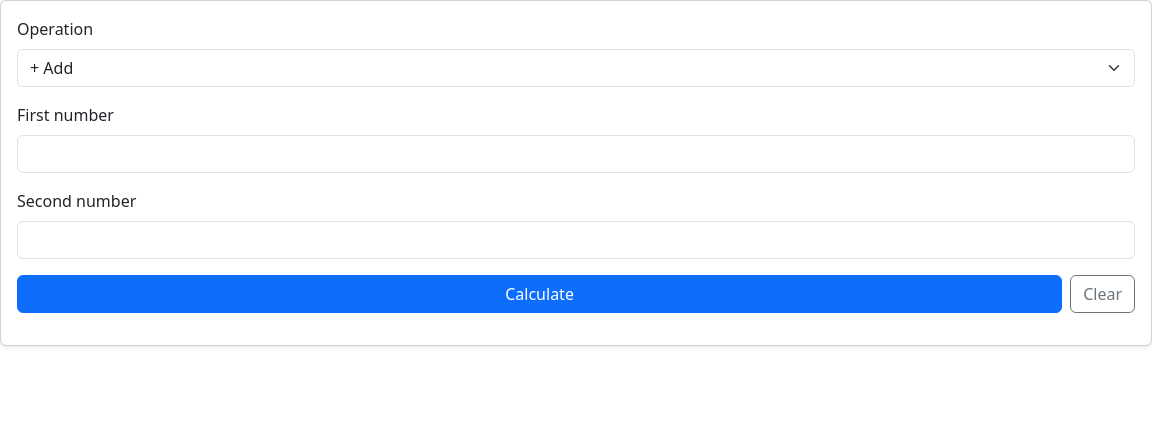
Test: Calculator › shows API errors
Step 1. Select "÷ Divide" in the dropdown labelled "Operation" → (576, 68), box [17, 49, 1135, 87]
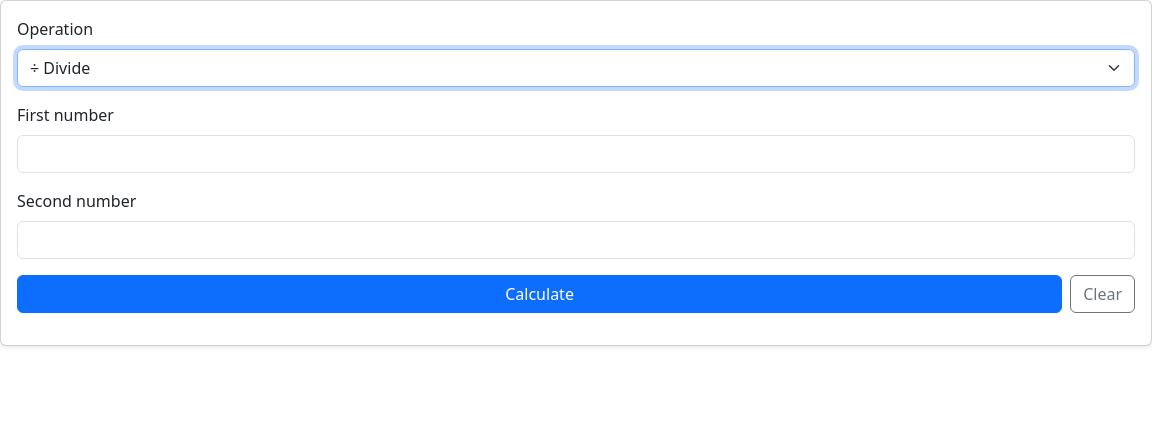
Step 2. Type "1" into the field labelled "First number" → (576, 154), box [17, 135, 1135, 173]
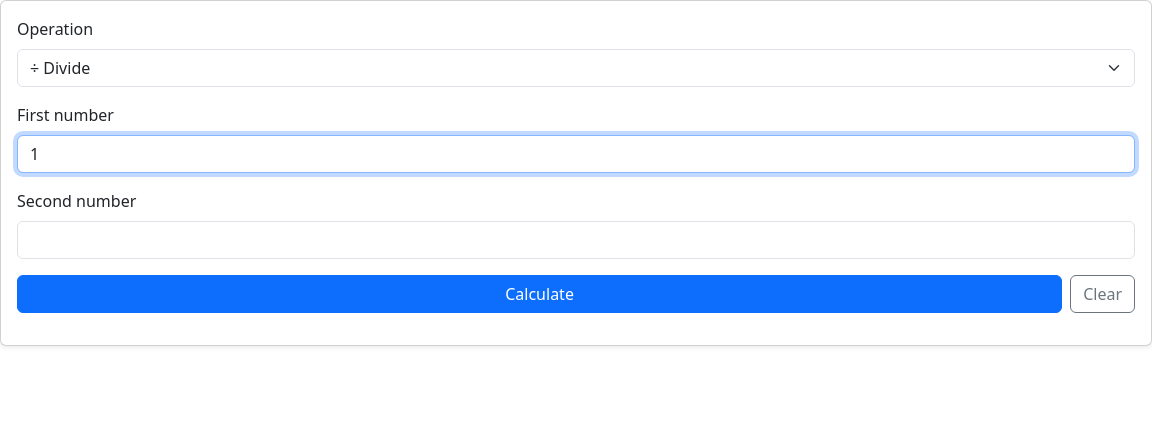
Step 3. Type "0" into the field labelled "Second number" → (576, 240), box [17, 221, 1135, 259]
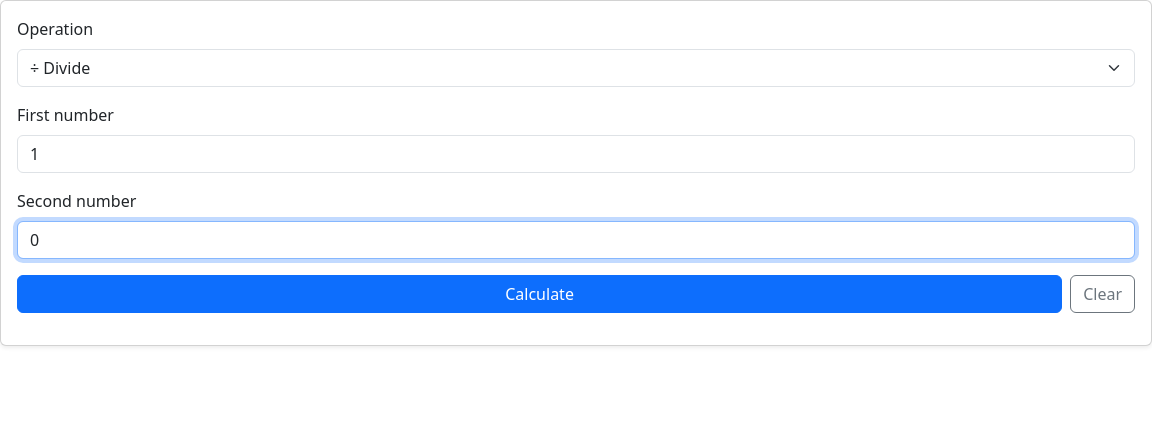
Step 4. Click the button "Calculate" → (540, 294), box [17, 275, 1062, 313]
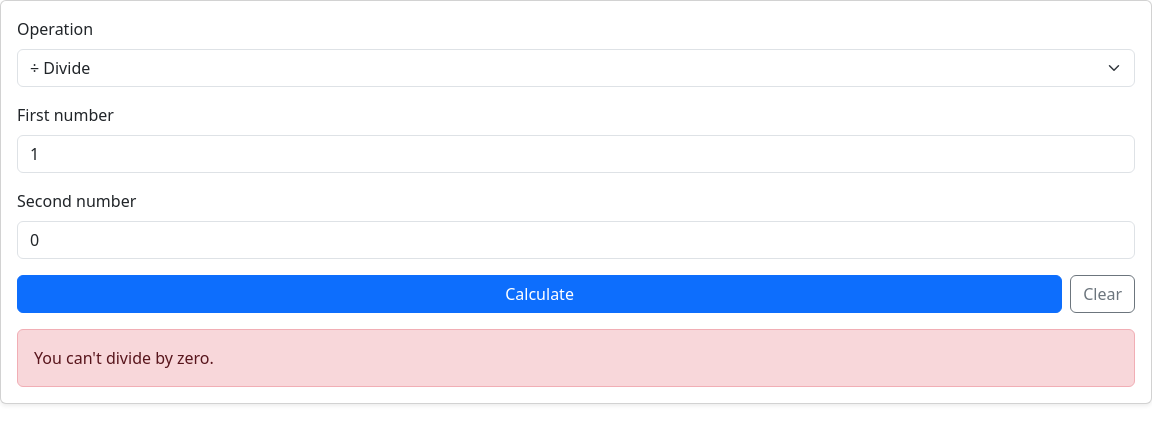
Expected: the message reads "You can't divide by zero.", [34, 347, 214, 369]
